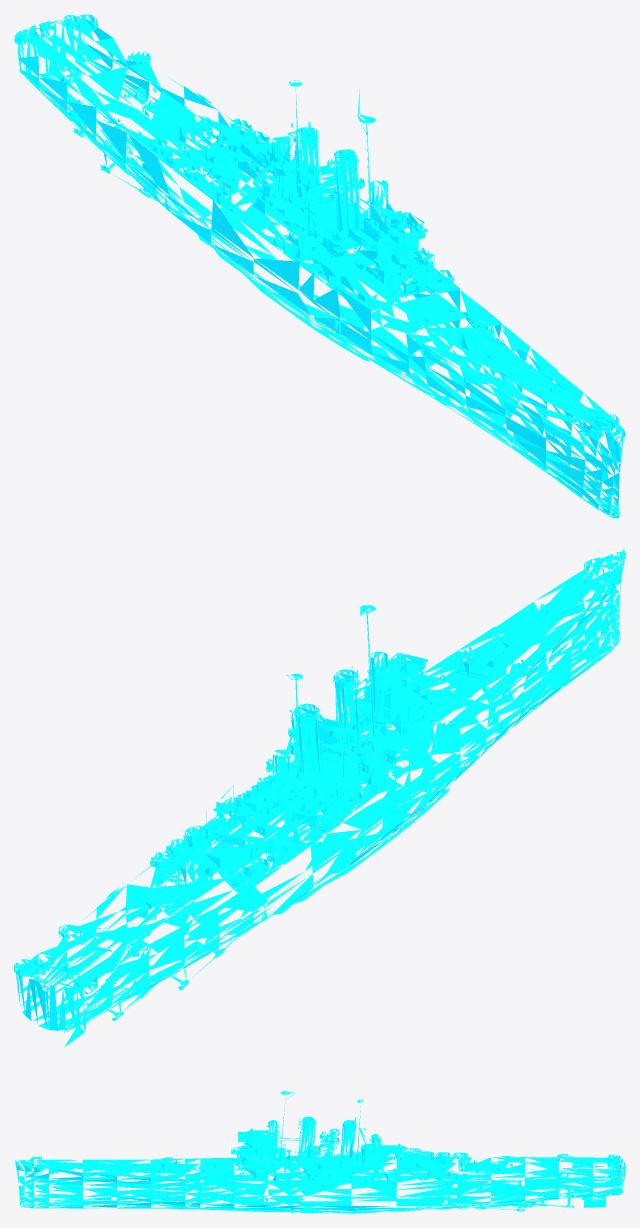
Rendered from Helena.glb.
The picture shows the model from 3 angles, top to bottom: view 1: azimuth 30°, elevation 25°; view 2: azimuth 150°, elevation 25°; view 3: azimuth 270°, elevation 25°; orthographic projection. The views are drawn at different scales.
Size of the model in its own units: 1.27 by 2.92 by 12.35.
